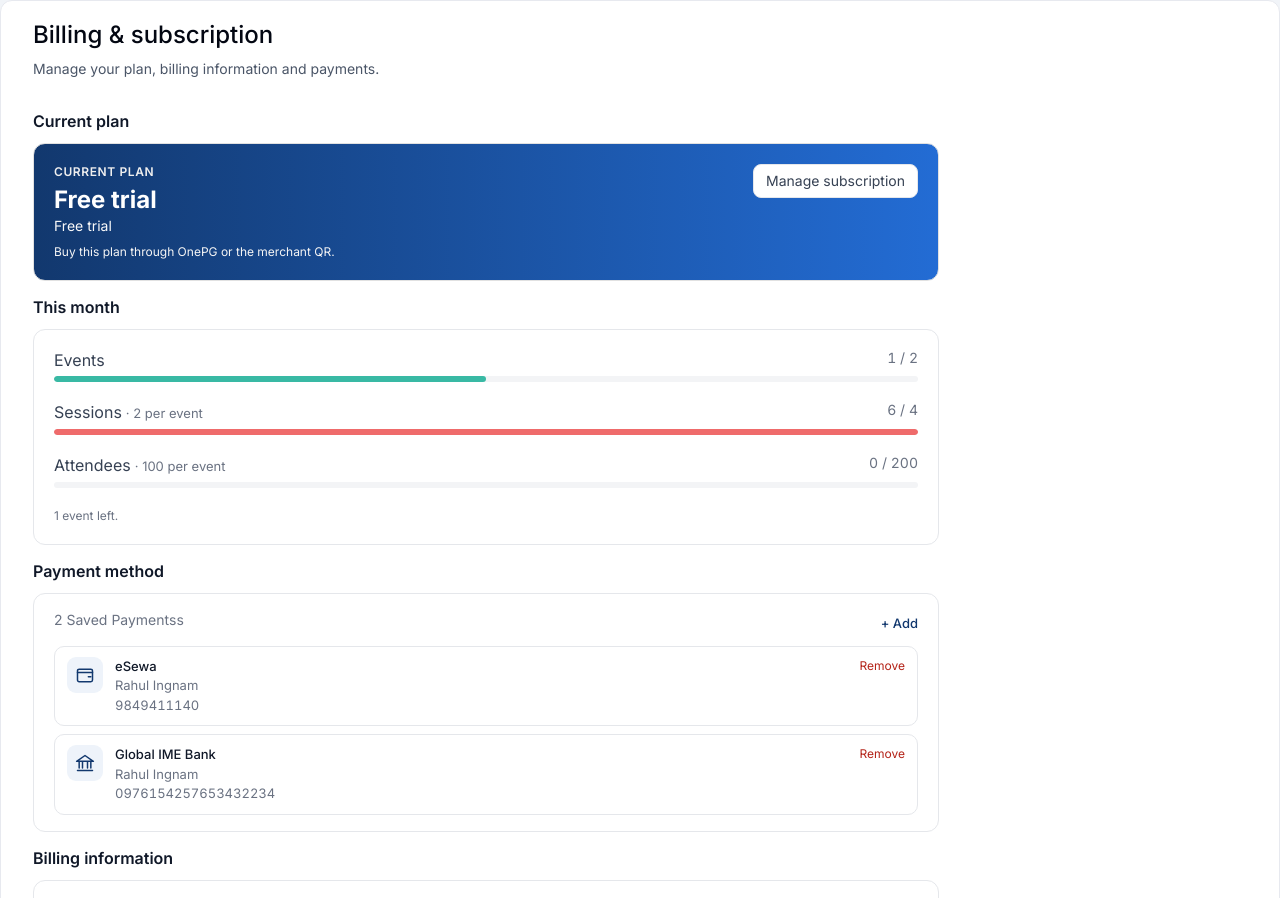
Test: the subscription page › buying a plan › states the billing details back in the boxes they were typed into
The width and height of the screenshot is (1280, 898).
Click the button "Manage subscription". click: (836, 181)
box: [753, 164, 918, 198]
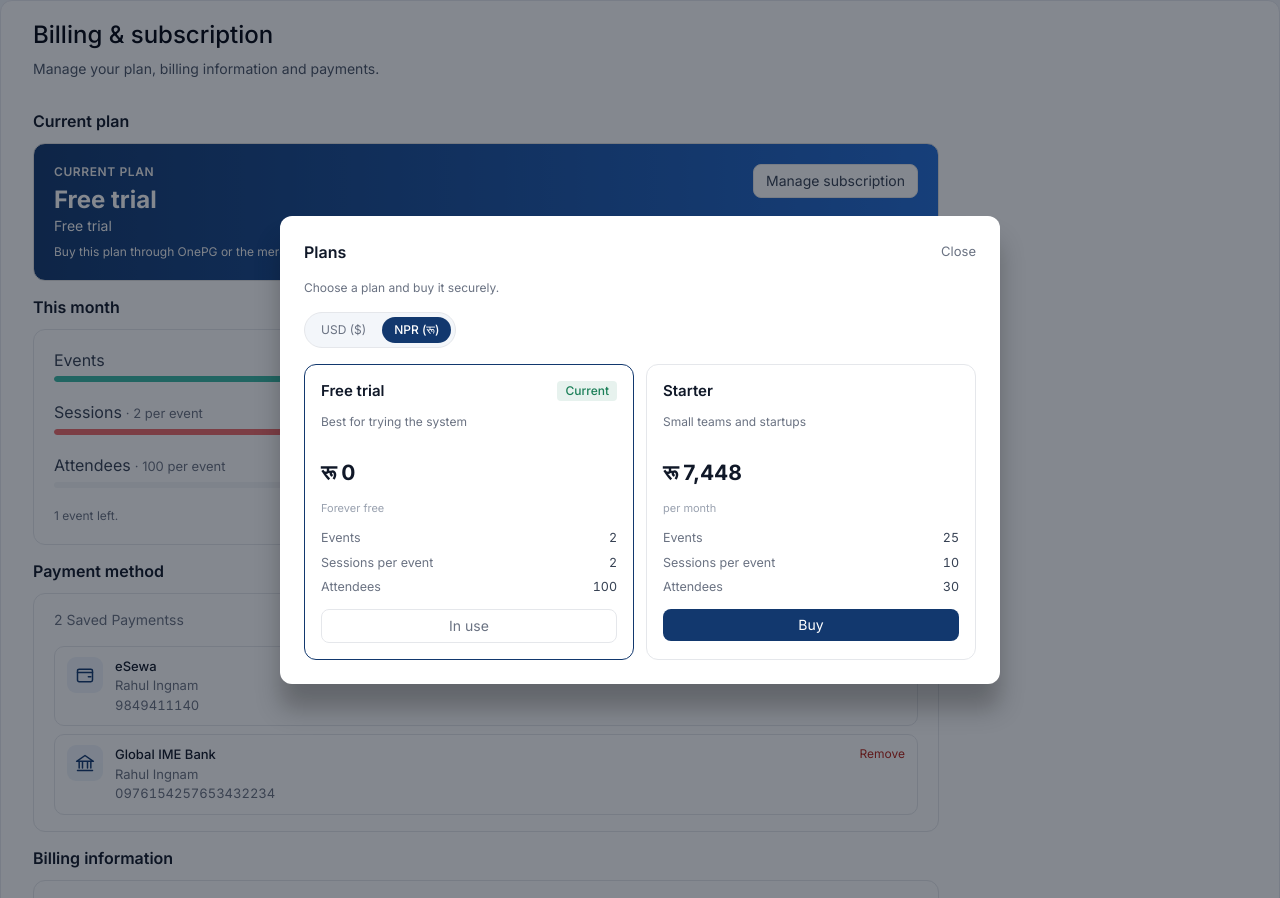
Click the button "Buy". click: (811, 625)
box: [663, 609, 959, 641]
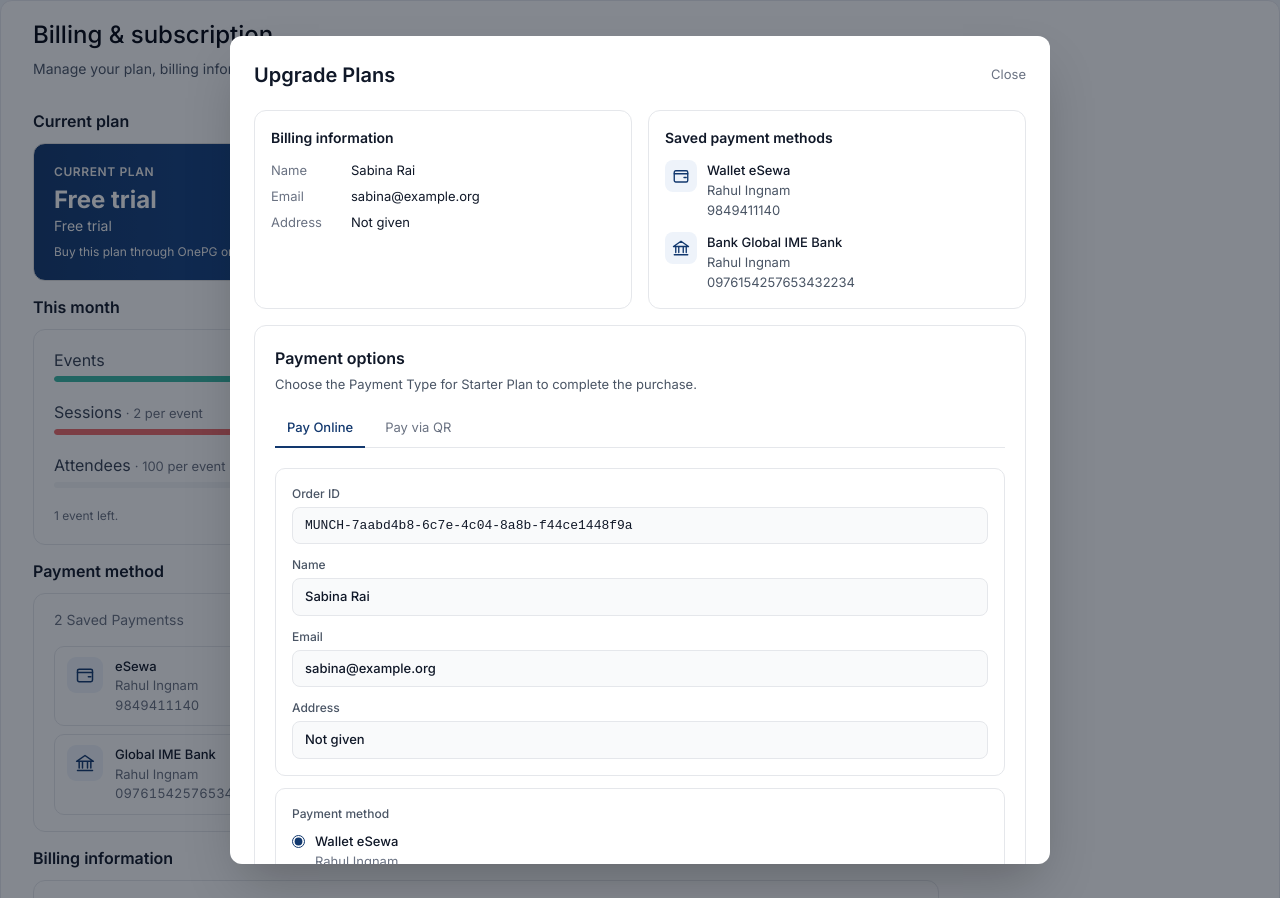
Expected: the field showing "Sabina Rai" is shown, [292, 578, 988, 616]
Expected: the field showing "sabina@example.org" is shown, [292, 650, 988, 687]
